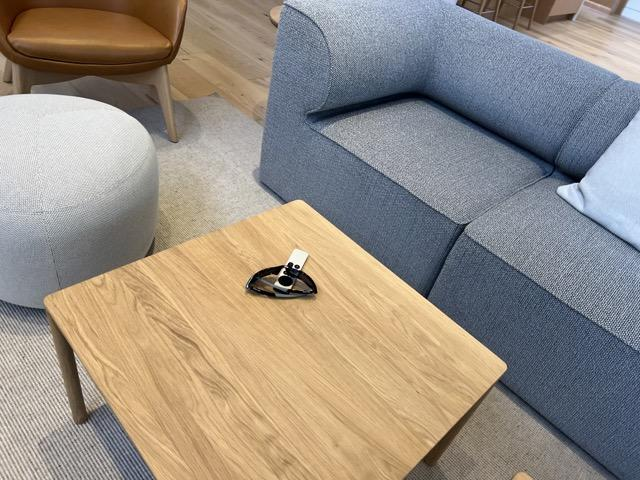Sunglasses: (246, 265, 318, 297)
